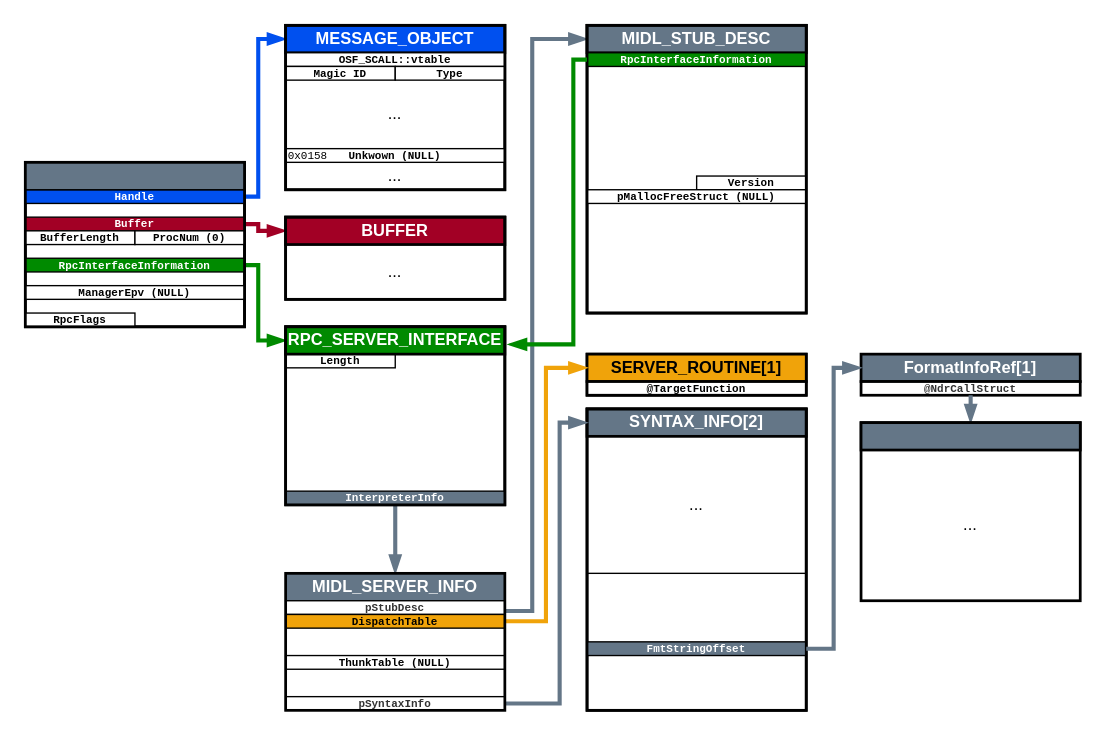
Some shapes in this 1104 by 740 pixel diagram are drawn without their labels. Here are the shapes that lost their labels. From the top down, the box of each, then its label:
(24, 161, 245, 190): RPC_MESSAGE
(859, 421, 1081, 451): NDR_CALL_STRUCT
